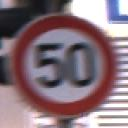speed_limit_50: (13, 14, 115, 116)
